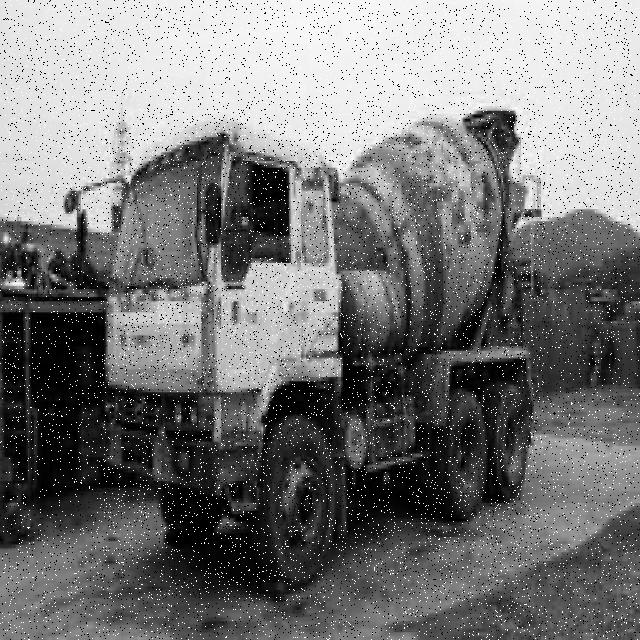Concrete Mixer: (103, 109, 546, 600)
